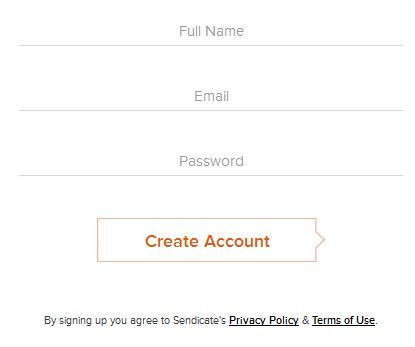button: (95, 217, 317, 263)
field_line: (17, 152, 404, 177), (18, 24, 404, 47), (16, 90, 404, 112)
